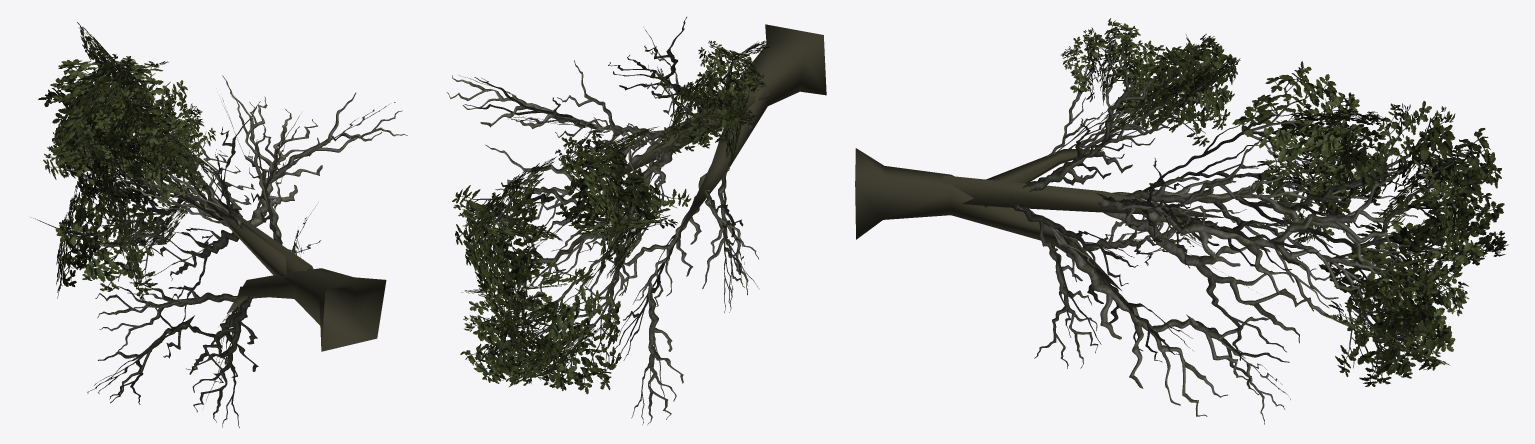
The model's file is MEP_Oak_05_LOD_01.fbx.
3 views of the same model, side by side, from view 1: azimuth 30°, elevation 25°; view 2: azimuth 150°, elevation 25°; view 3: azimuth 270°, elevation 25° (orthographic). The views are drawn at different scales.
Parts seen in each view (by area): view 1: MEP_Oak_05_LOD_01; view 2: MEP_Oak_05_LOD_01; view 3: MEP_Oak_05_LOD_01.
Boxes of the visible parts, left/top/right/bottom form: MEP_Oak_05_LOD_01: left=31, top=22, right=407, bottom=427; MEP_Oak_05_LOD_01: left=446, top=17, right=826, bottom=424; MEP_Oak_05_LOD_01: left=855, top=18, right=1508, bottom=424.
Bounding box in the file's own units: 12.43 × 13.17 × 20.27.
